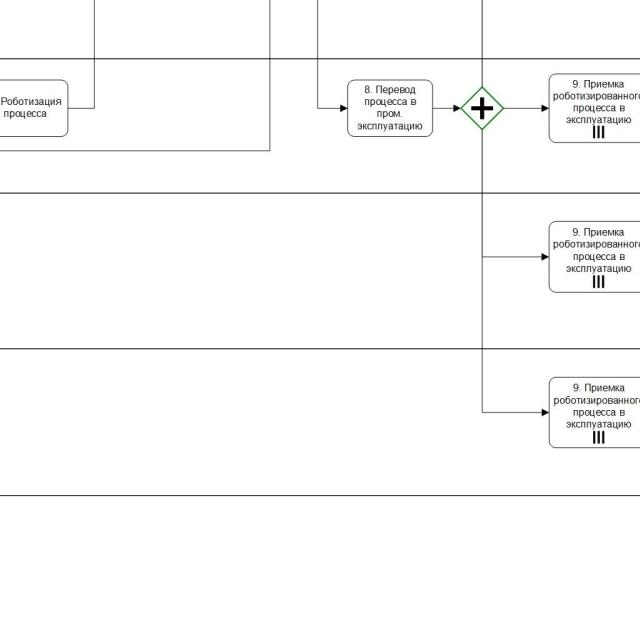arrow: (480, 132, 548, 418), (503, 104, 549, 112), (432, 104, 460, 112)
diamond: (459, 87, 503, 131)
rectangle: (347, 79, 434, 138)
